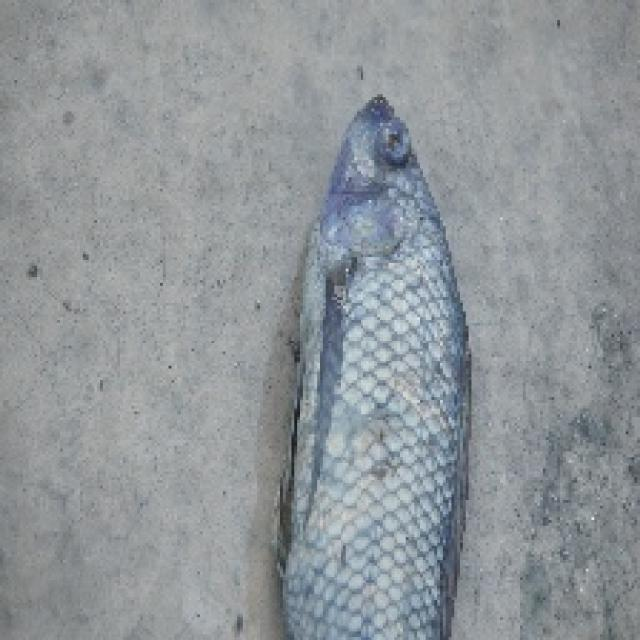Non-Fresh: (255, 78, 501, 640)
